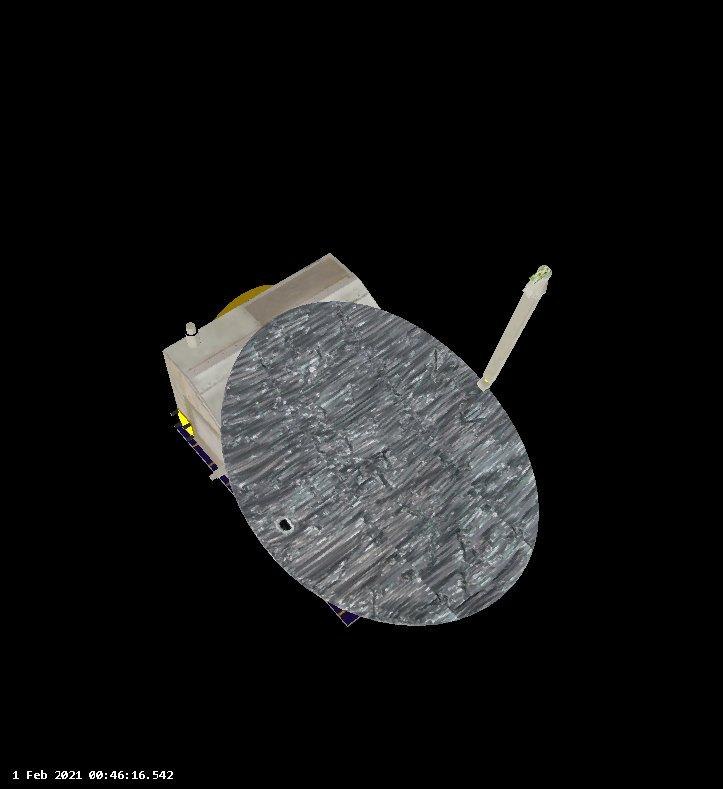antenna: (215, 263, 577, 629)
body: (157, 245, 448, 558)
